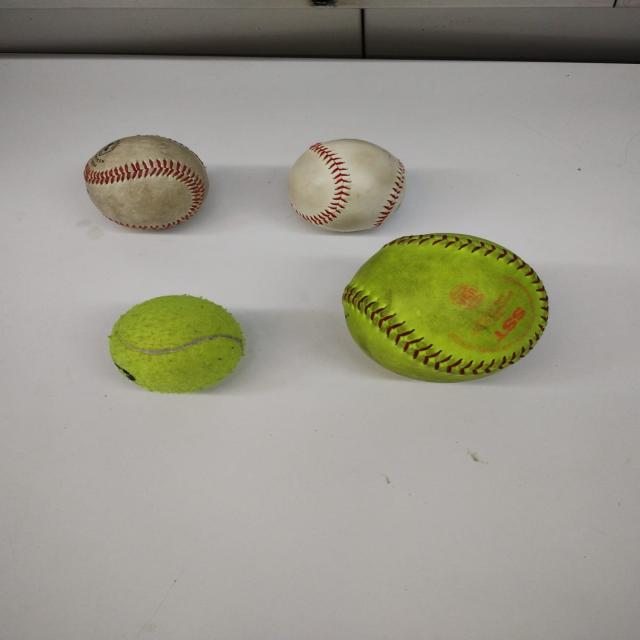beisbol ball: (83, 134, 209, 229), (288, 139, 406, 232)
softball ball: (342, 234, 549, 381)
tenis ball: (106, 293, 247, 393)
